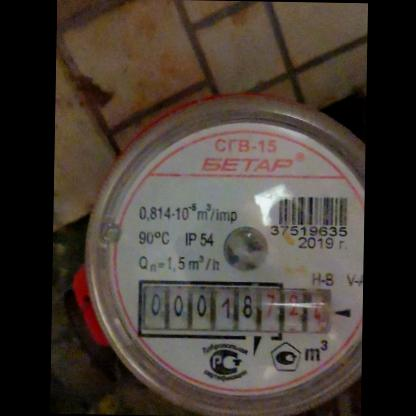digital_screen: (133, 276, 263, 342)
